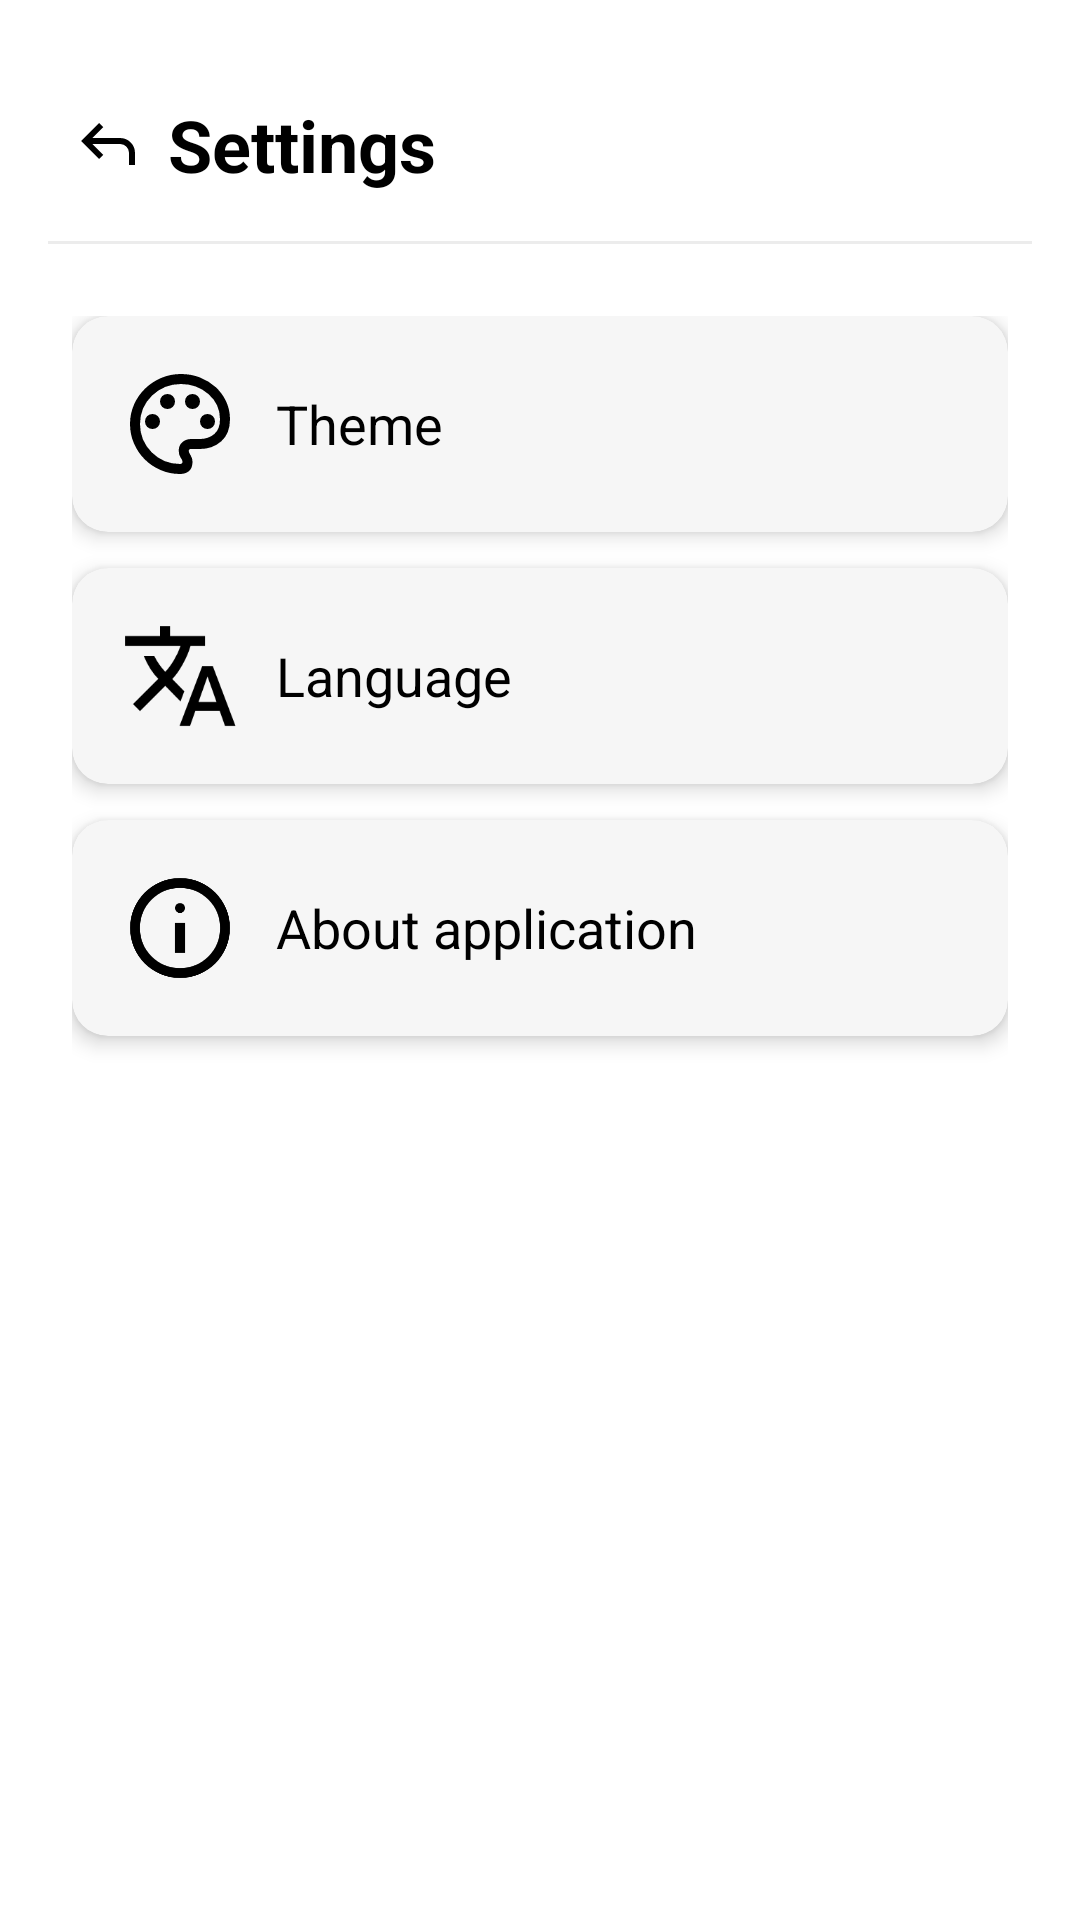

Point at icon controls on the screen. Image size 1080px x 1920px, points as (x=x, y=y).
Back: (x=108, y=144)
